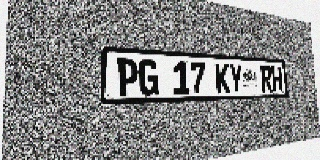1: (172, 61, 190, 95)
7: (189, 62, 206, 94)
G: (139, 59, 159, 96)
H: (271, 66, 283, 92)
K: (215, 63, 230, 94)
P: (117, 58, 138, 96)
R: (260, 65, 273, 92)
Y: (229, 64, 243, 93)
